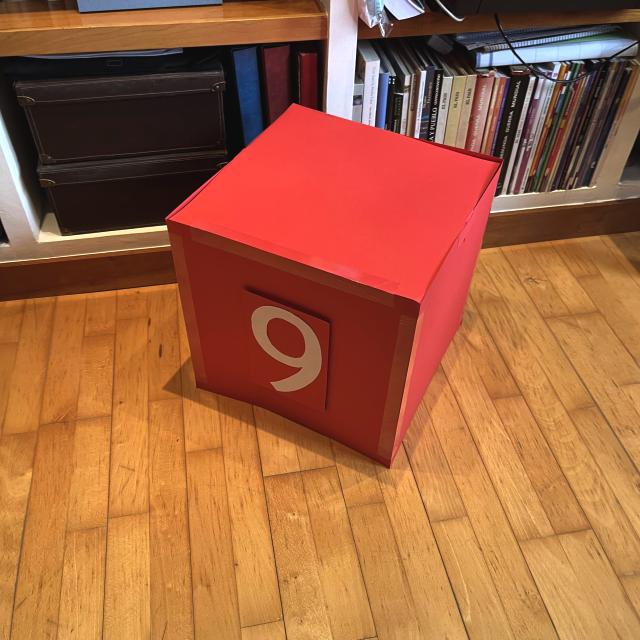box: (162, 100, 506, 469)
